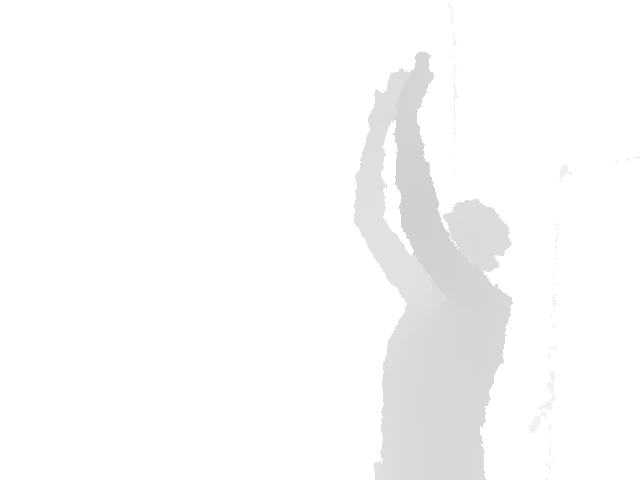hand: (398, 51, 436, 114), (367, 68, 407, 126)
head: (437, 198, 514, 277)
person: (353, 51, 514, 479)
